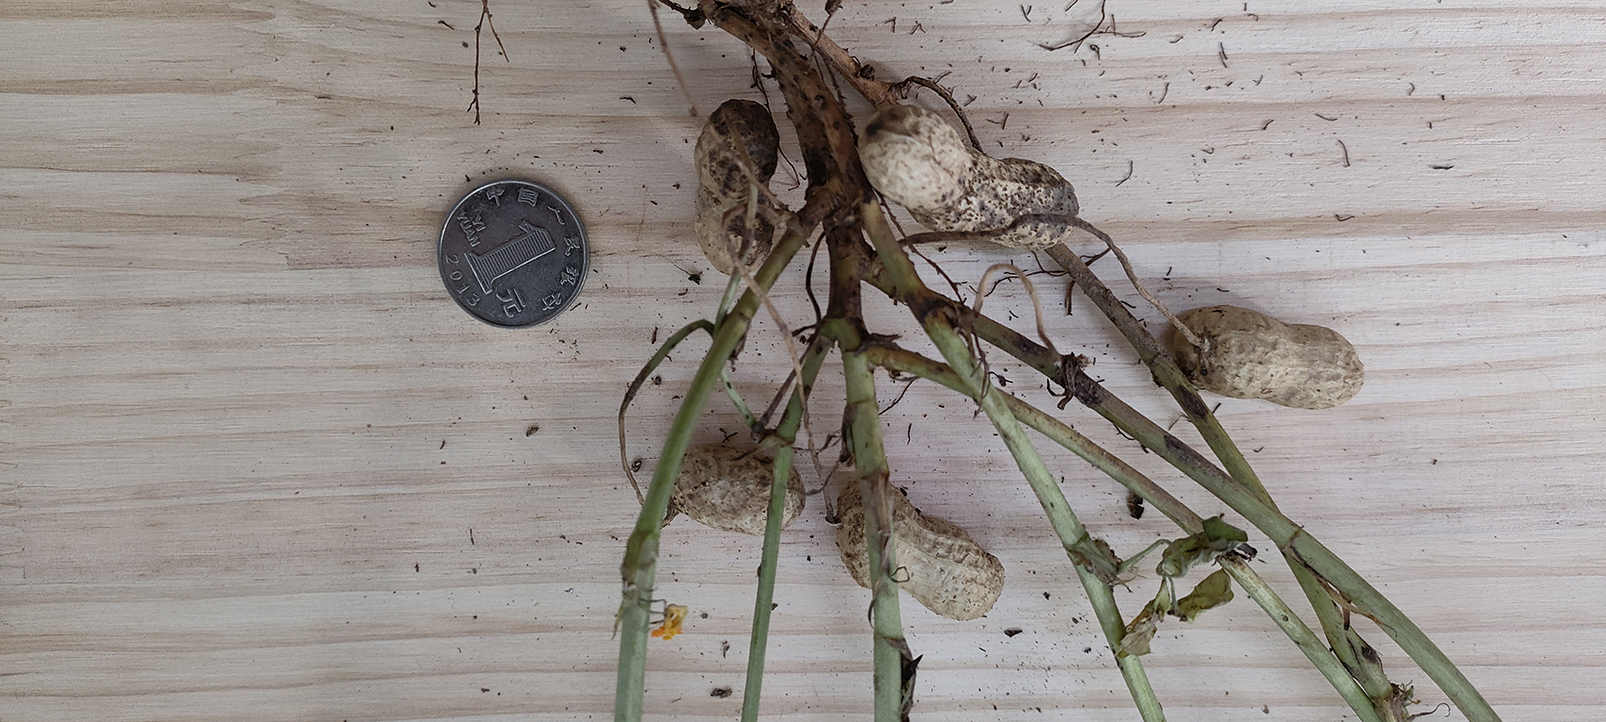h: (854, 105, 1082, 252), (835, 483, 1007, 621), (1173, 306, 1364, 411), (668, 445, 807, 532)
l: (692, 96, 781, 277)
